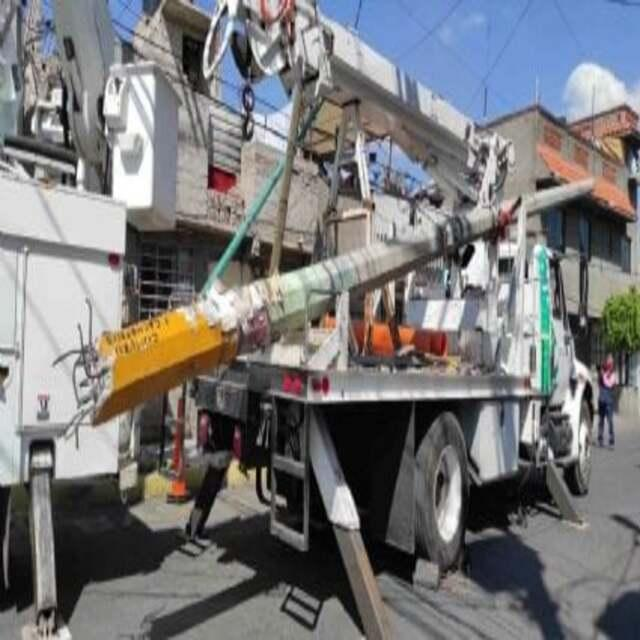Inclined Pole: (56, 175, 599, 431)
